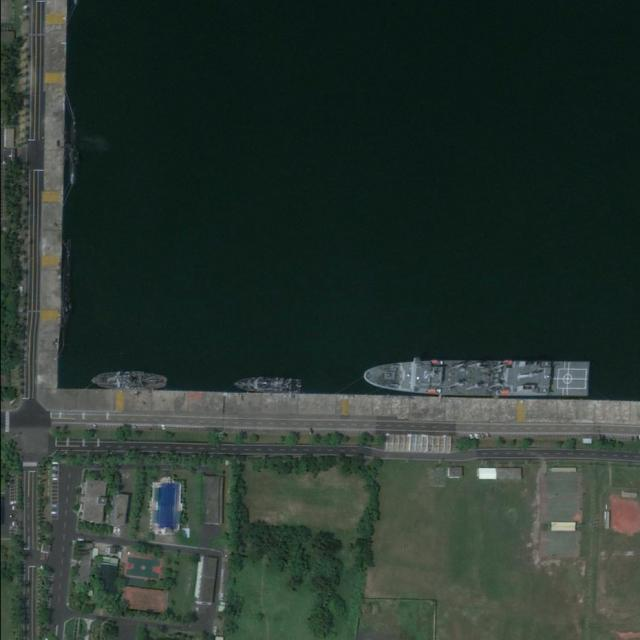Commander: (361, 358, 592, 398)
Other Warship: (92, 372, 167, 390), (234, 376, 301, 392)
Submarine: (60, 242, 71, 353), (71, 110, 78, 184)
